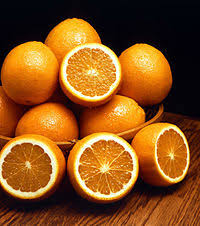orange: (114, 37, 179, 104)
